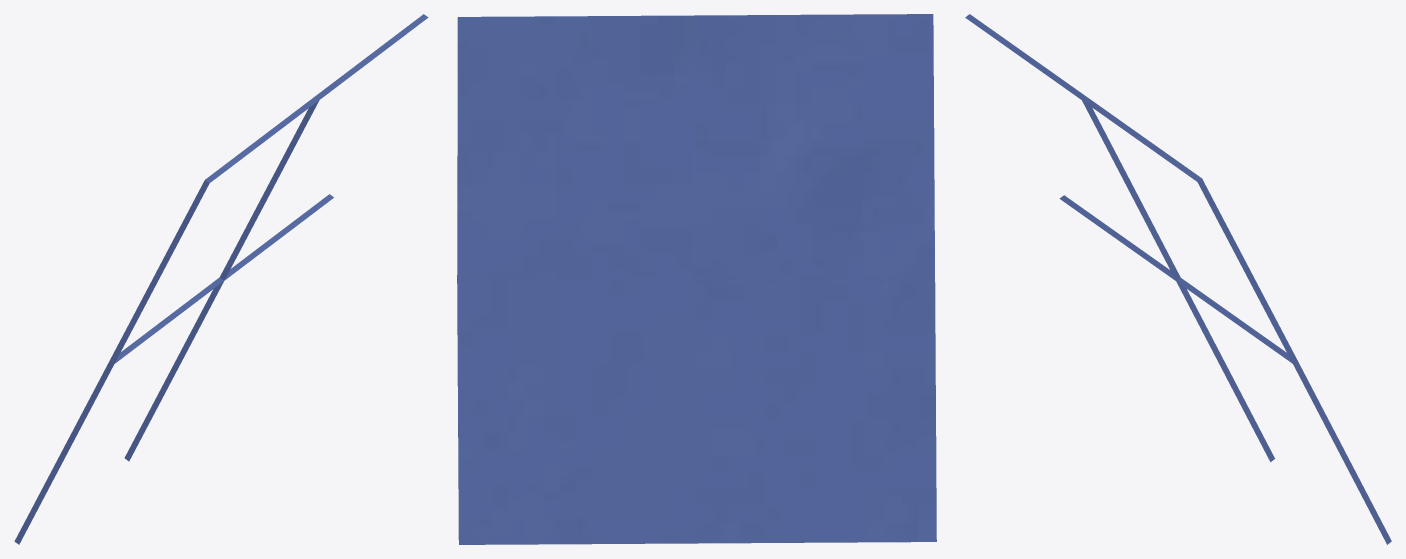
3 views of the same model, side by side, from view 1: azimuth 30°, elevation 25°; view 2: azimuth 150°, elevation 25°; view 3: azimuth 270°, elevation 25° (orthographic). The views are drawn at different scales.
Bounding box in the file's own units: 19676 × 17737 × 16645.
Materials: 1 (1 with a texture image).
